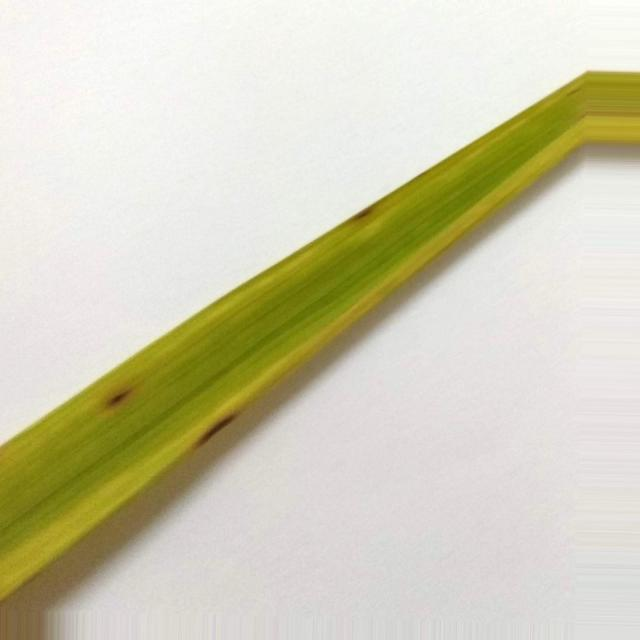Brown_Spot: (192, 414, 236, 449), (102, 388, 132, 409), (348, 205, 375, 222)
